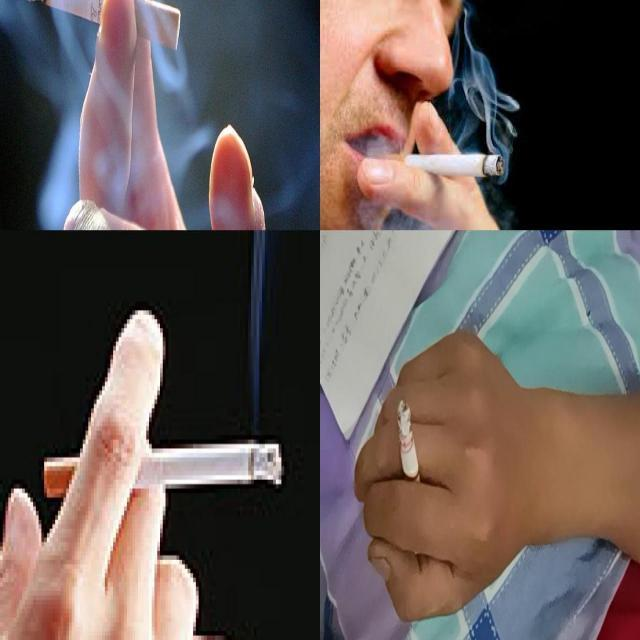smoke: (42, 442, 282, 499), (20, 0, 182, 52), (364, 154, 504, 177), (396, 398, 426, 504)
